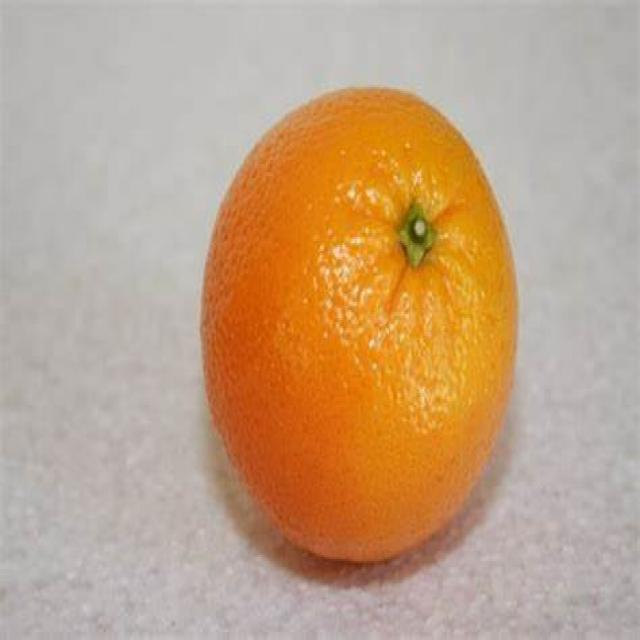Orange: (199, 87, 525, 561)
